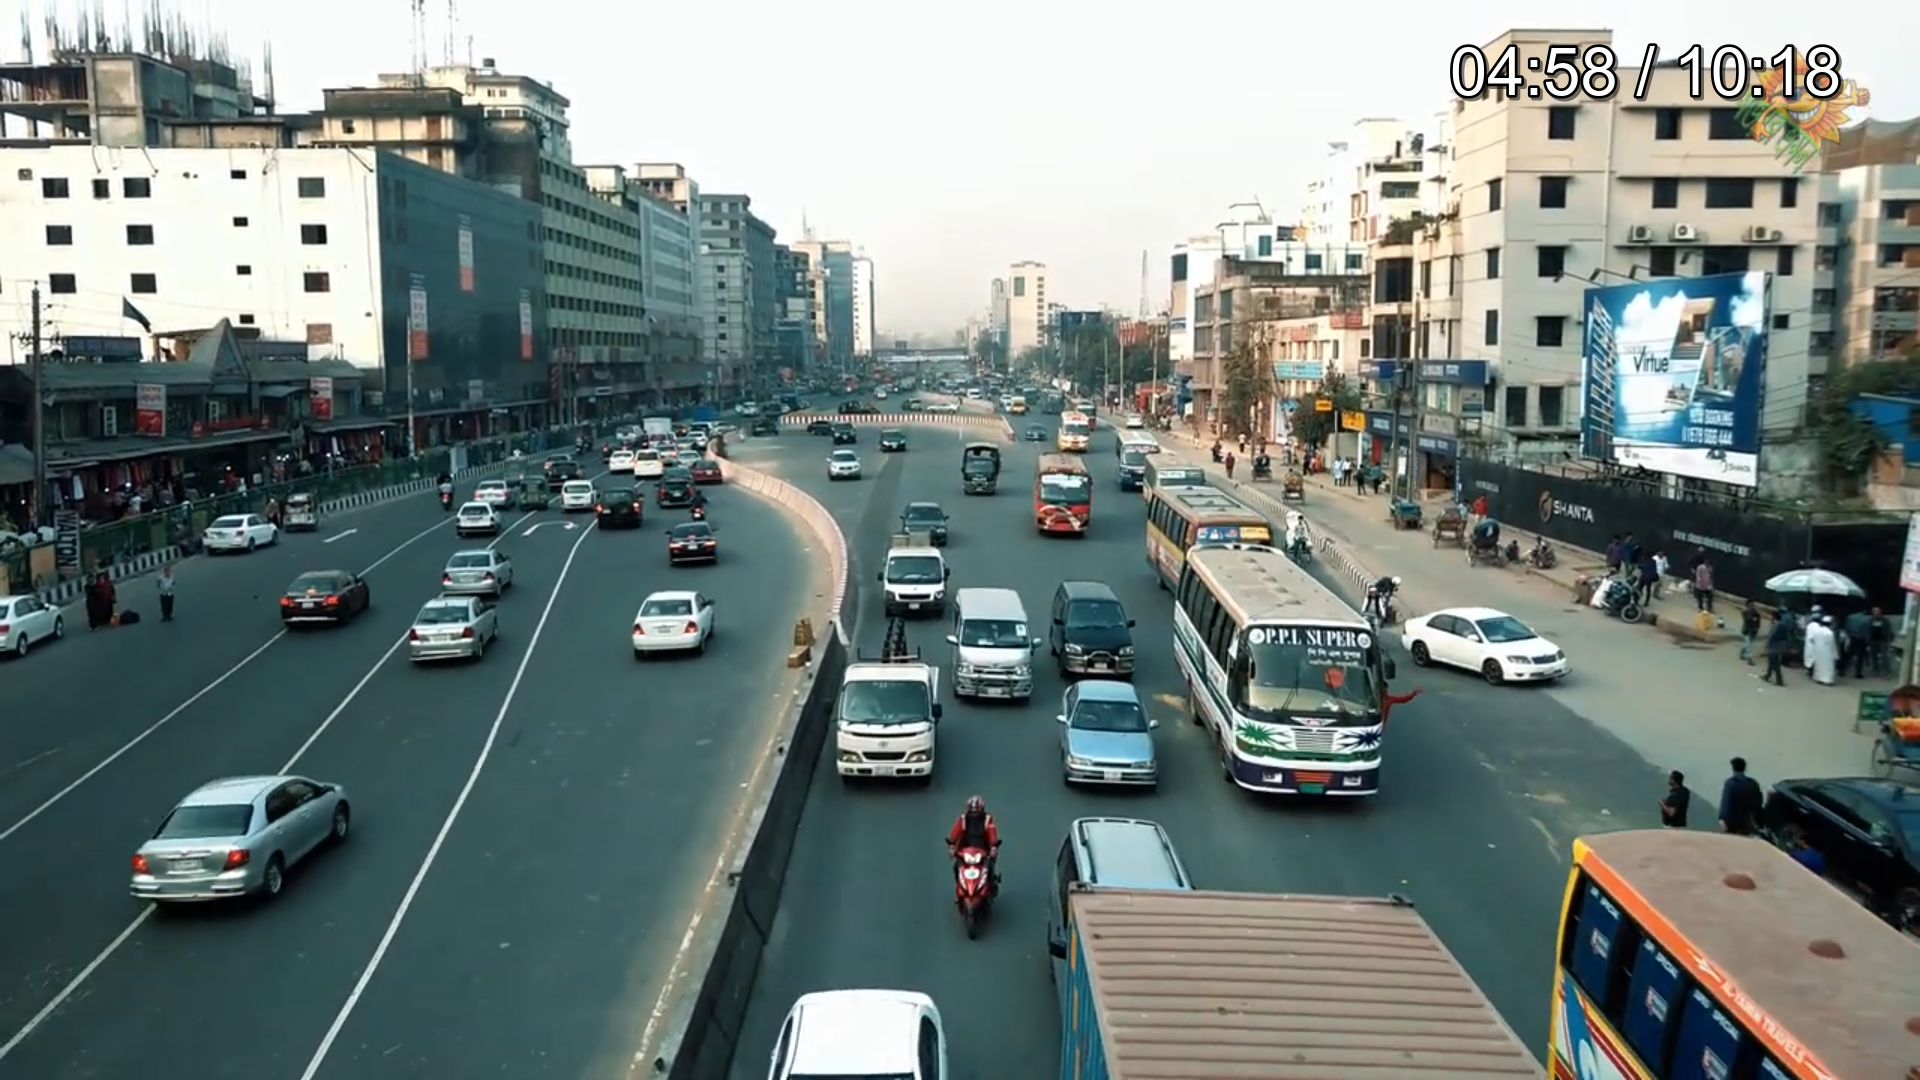MotorCycle: (944, 789, 1010, 945)
